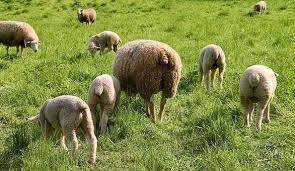sheep: (113, 41, 180, 115), (37, 95, 97, 158), (235, 61, 278, 133), (86, 72, 127, 132), (191, 41, 227, 90), (1, 19, 39, 56), (69, 7, 99, 26), (250, 1, 271, 14)
